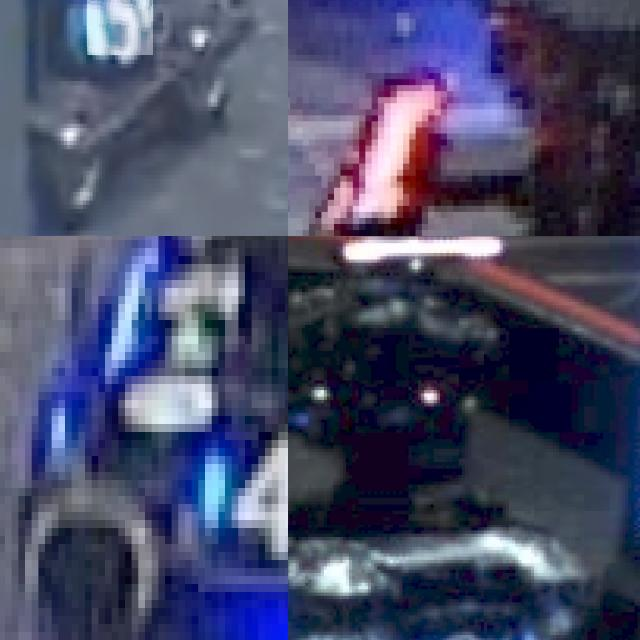B4: (181, 416, 288, 560)
B5: (86, 0, 153, 55)
